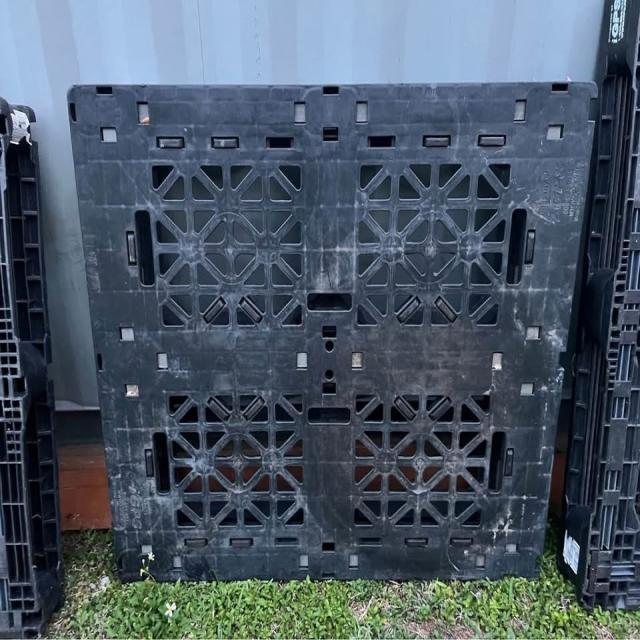igps: (50, 56, 602, 593)
